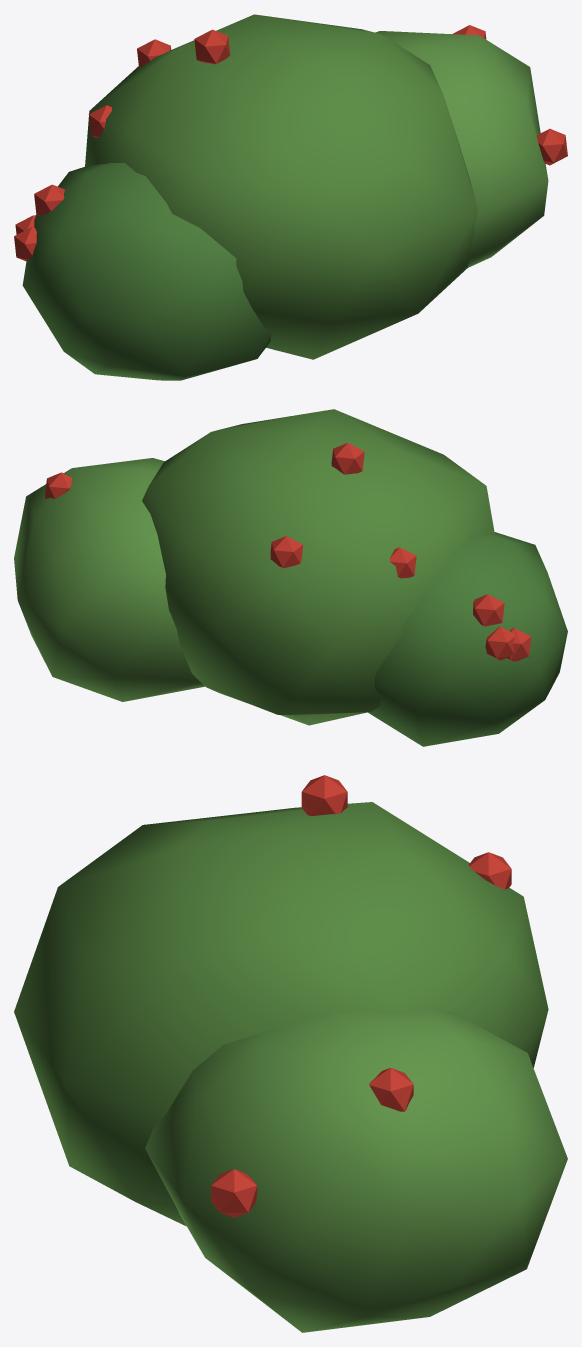
File: Bush_Berry.fbx
3 views of the same model, one above another, from view 1: azimuth 30°, elevation 25°; view 2: azimuth 150°, elevation 25°; view 3: azimuth 270°, elevation 25° (orthographic). The views are drawn at different scales.
Parts seen in each view (by area): view 1: Bush_Berry; view 2: Bush_Berry; view 3: Bush_Berry.
Boxes of the visible parts, x1,y1,x2,y2 form: Bush_Berry: (14, 14, 567, 380); Bush_Berry: (14, 409, 567, 746); Bush_Berry: (14, 775, 567, 1332).
Size of the model in its own units: 1.16 by 0.6641 by 0.7872.
